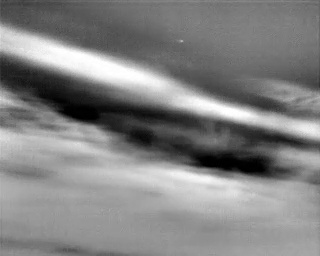BIRD: (177, 37, 185, 45)
